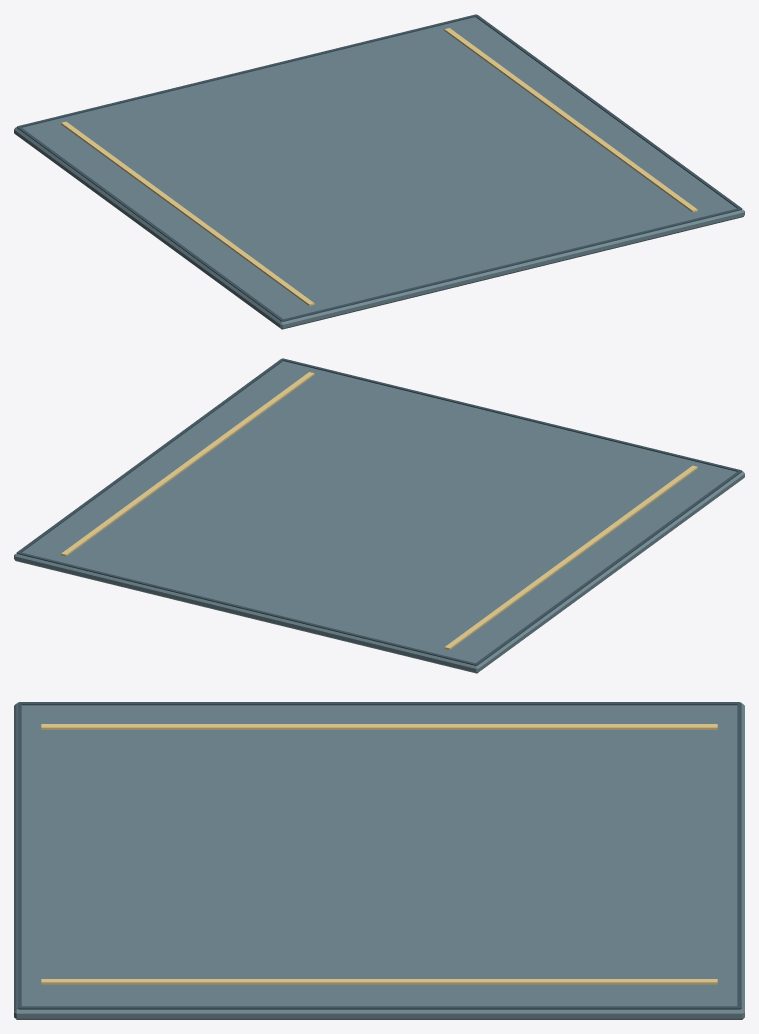
Rendered from ground-industrial.glb.
3 views of the same model, one above another, from view 1: azimuth 30°, elevation 25°; view 2: azimuth 150°, elevation 25°; view 3: azimuth 270°, elevation 25° (orthographic). The views are drawn at different scales.
Visible parts, largest first — view 1: surface, asset_ground-industrial__FP_Dark, asset_ground-industrial__FP_Hazard; view 2: surface, asset_ground-industrial__FP_Dark, asset_ground-industrial__FP_Hazard; view 3: surface, asset_ground-industrial__FP_Dark, asset_ground-industrial__FP_Hazard.
Boxes of the visible parts, left/top/right/bottom form: surface: left=14, top=17, right=744, bottom=329; asset_ground-industrial__FP_Dark: left=16, top=14, right=742, bottom=321; asset_ground-industrial__FP_Hazard: left=61, top=28, right=697, bottom=305; surface: left=14, top=361, right=744, bottom=673; asset_ground-industrial__FP_Dark: left=16, top=358, right=742, bottom=665; asset_ground-industrial__FP_Hazard: left=61, top=372, right=697, bottom=649; surface: left=14, top=703, right=744, bottom=1019; asset_ground-industrial__FP_Dark: left=17, top=702, right=741, bottom=1009; asset_ground-industrial__FP_Hazard: left=41, top=724, right=717, bottom=984.
Bounding box in the file's own units: 4 × 0.08 × 4.
